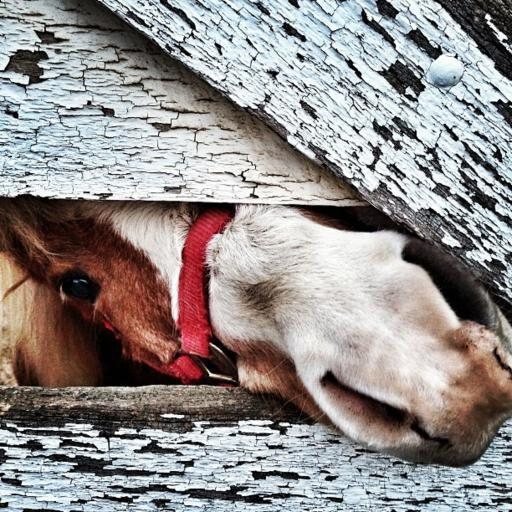horse: (0, 190, 511, 470)
